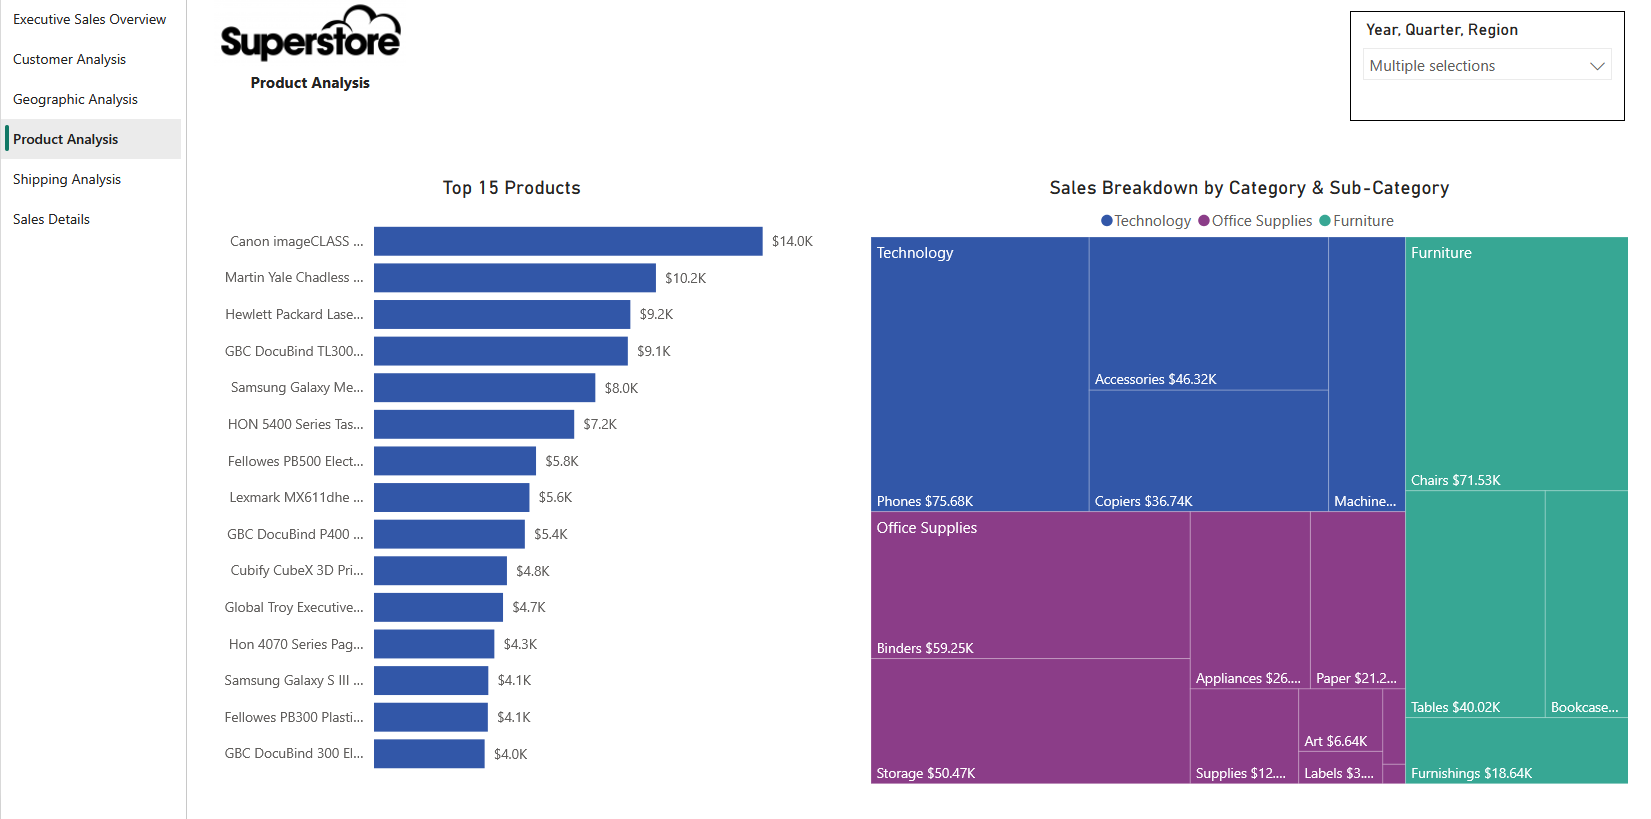

Layout of this report page (visuals, bound fields, positions):
{"tool":"powerbi","page":{"name":"Product Analysis","canvas":[1280,720],"ordinal":3},"visuals":[{"type":"image","box":[24,16,168,88],"z":0},{"type":"barChart","title":"Top 15 Products","fields":{"Category":["Super Store Dataset.Product Name"],"Y":["Sum(Super Store Dataset.Sales)"]},"box":[16,144,544,560],"z":1000},{"type":"treemap","title":"Sales by Category and Sub-Category","fields":{"Group":["Super Store Dataset.Category"],"Values":["Sum(Super Store Dataset.Sales)"],"Details":["Super Store Dataset.Sub-Category"]},"box":[592,128,672,576],"z":2000},{"type":"slicer","title":"Filter by","fields":{"Values":["Super Store Dataset.Region","Super Store Dataset.Order Date Hierarchy.Year","Super Store Dataset.Order Date Hierarchy.Quarter","Super Store Dataset.Order Date Hierarchy.Month"]},"box":[1024,16,240,96],"z":3000},{"type":"textbox","box":[16,96,192,32],"z":4000}]}

Visuals, with their boxes on the page's 1280x720 design canvas (x1, y1, x2, y2). These are canvas units, not pixel positions in the 1651x819 screenshot, which may show the page scaled, cropped or inside an application window:
image: <region>24, 16, 192, 104</region>
"Top 15 Products" barChart: <region>16, 144, 560, 704</region>
"Sales by Category and Sub-Category" treemap: <region>592, 128, 1264, 704</region>
"Filter by" slicer: <region>1024, 16, 1264, 112</region>
textbox: <region>16, 96, 208, 128</region>
